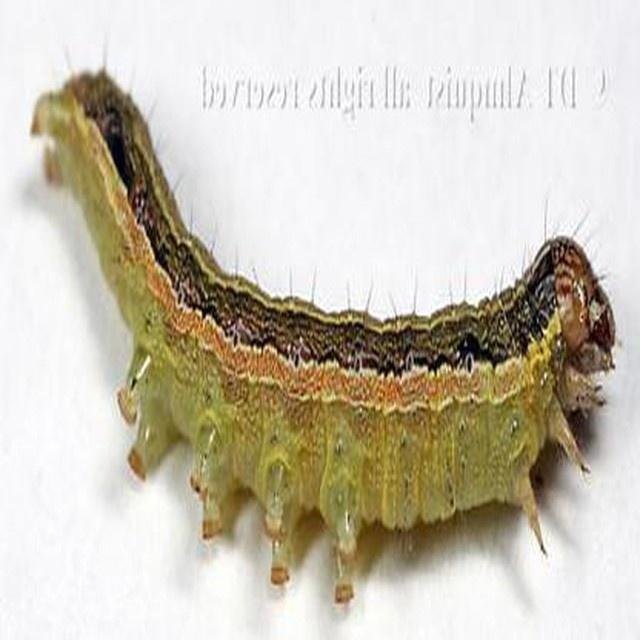gusano_cogollero: (24, 53, 619, 603)
